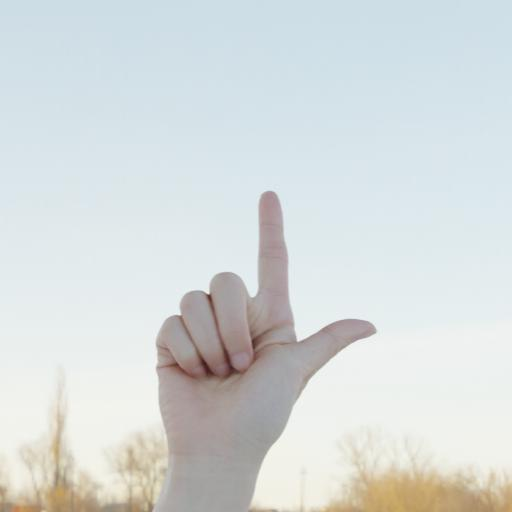L: (139, 177, 389, 484)
